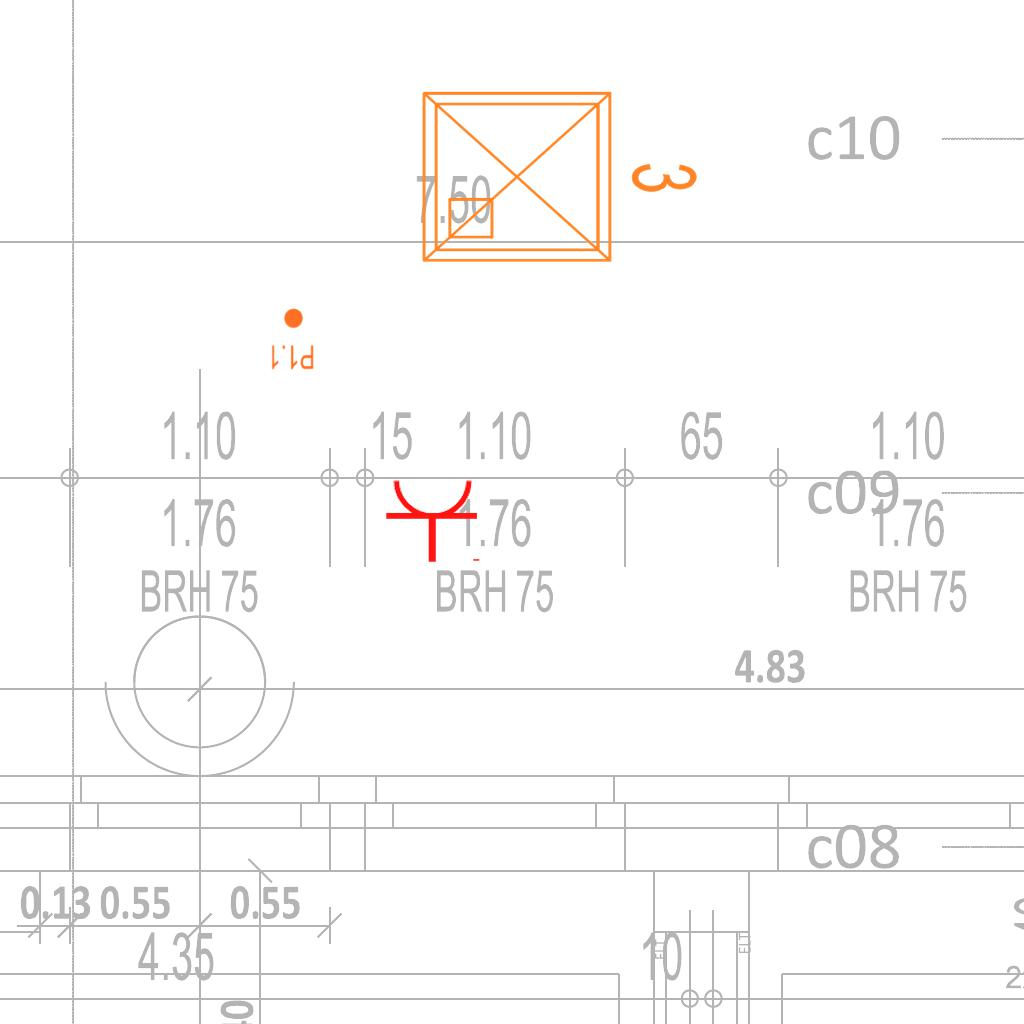Downlight_LED_Einbauleuchten_Flur: (269, 307, 315, 371)
Einbaudownlights_LED_Konferenzraeume: (408, 69, 708, 277)
Schukosteckdose_einfach: (384, 477, 484, 564)
